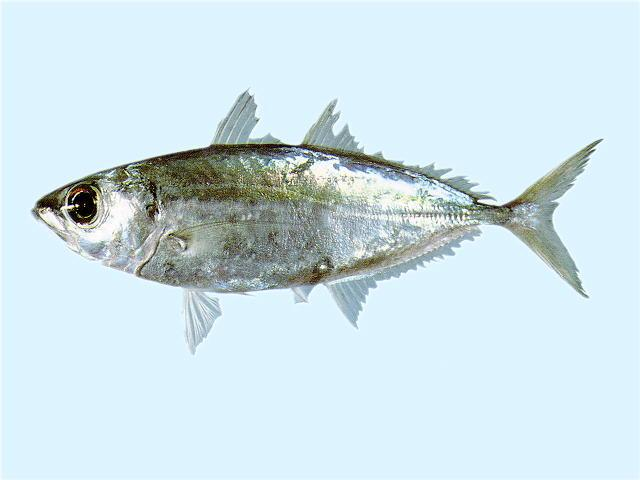Mulut: (22, 176, 70, 256)
Sirip Anal: (324, 222, 486, 326)
Sirip Dada: (164, 202, 318, 262)
Sirip Ekor: (510, 116, 610, 318)
Sirip Perut: (172, 278, 234, 354)
Sirip Punggung: (192, 75, 388, 167)
